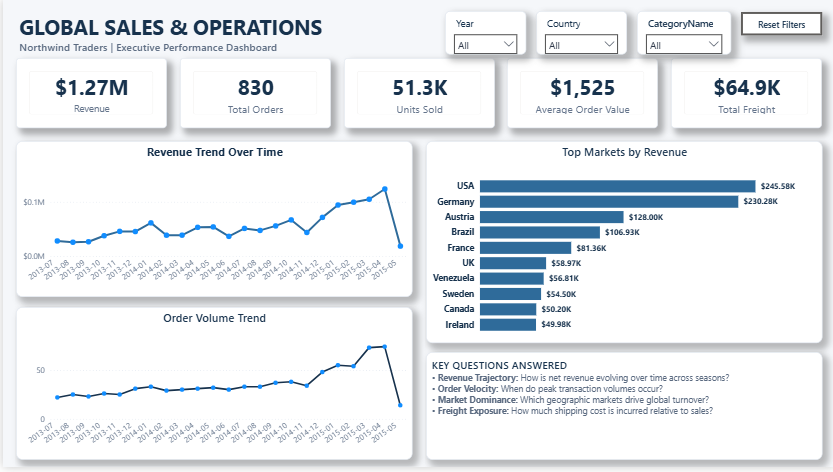

What the dashboard file says about the page in this screenshot:
{"tool":"powerbi","page":{"name":"Sales & Revenue Overview","canvas":[1280,720],"ordinal":0},"visuals":[{"type":"textbox","box":[20,15,1240,73.9],"z":0},{"type":"cardVisual","fields":{"Data":["Measure (2).Revenue"]},"box":[20.2,90.7,231.8,107.5],"z":1000},{"type":"cardVisual","fields":{"Data":["Measure (2).Total Orders"]},"box":[272,90.7,231.8,107.5],"z":2000},{"type":"cardVisual","fields":{"Data":["Measure (2).Units Sold"]},"box":[524.1,90.7,231.8,107.5],"z":3000},{"type":"cardVisual","fields":{"Data":["Measure (2).Average Order Value"]},"box":[776,90.7,231.8,107.5],"z":4000},{"type":"cardVisual","fields":{"Data":["Measure (2).Total Freight"]},"box":[1028,90.7,231.8,107.5],"z":5000},{"type":"slicer","fields":{"Values":["Customers.country"]},"box":[820,18,140,67.2],"z":6000},{"type":"slicer","fields":{"Values":["Categories.categoryName"]},"box":[975,18,145,67.2],"z":7000},{"type":"slicer","fields":{"Values":["DateTable.Year"]},"box":[680,18,125,67.2],"z":8000},{"type":"lineChart","title":"Revenue Trend Over Time","fields":{"Category":["DateTable.Year Month"],"Y":["Measure (2).Revenue"]},"box":[20,218.4,610,240],"z":9000},{"type":"lineChart","title":"Order Volume Trend","fields":{"Y":["Measure (2).Total Orders"],"Category":["DateTable.Year Month"]},"box":[20.2,473.7,609.8,235.2],"z":10000},{"type":"clusteredBarChart","title":"Top Markets by Revenue","fields":{"Category":["Customers.country"],"Y":["Measure (2).Revenue"]},"box":[650.1,218.4,609.8,310.8],"z":11000},{"type":"textbox","box":[650.1,542.6,609.8,166.3],"z":12000},{"type":"actionButton","box":[1135,20,125,36],"z":13000}]}

Visuals, with their boxes in screenshot pixels (x1, y1, x2, y2), scaled from the page's 1280x720 canvas onto the 833x472 screenshot:
textbox: x1=13, y1=10, x2=820, y2=58
cardVisual - Measure (2).Revenue: x1=13, y1=59, x2=164, y2=130
cardVisual - Measure (2).Total Orders: x1=177, y1=59, x2=328, y2=130
cardVisual - Measure (2).Units Sold: x1=341, y1=59, x2=492, y2=130
cardVisual - Measure (2).Average Order Value: x1=505, y1=59, x2=656, y2=130
cardVisual - Measure (2).Total Freight: x1=669, y1=59, x2=820, y2=130
slicer - Customers.country: x1=534, y1=12, x2=625, y2=56
slicer - Categories.categoryName: x1=635, y1=12, x2=729, y2=56
slicer - DateTable.Year: x1=443, y1=12, x2=524, y2=56
"Revenue Trend Over Time" lineChart: x1=13, y1=143, x2=410, y2=301
"Order Volume Trend" lineChart: x1=13, y1=311, x2=410, y2=465
"Top Markets by Revenue" clusteredBarChart: x1=423, y1=143, x2=820, y2=347
textbox: x1=423, y1=356, x2=820, y2=465
actionButton: x1=739, y1=13, x2=820, y2=37
